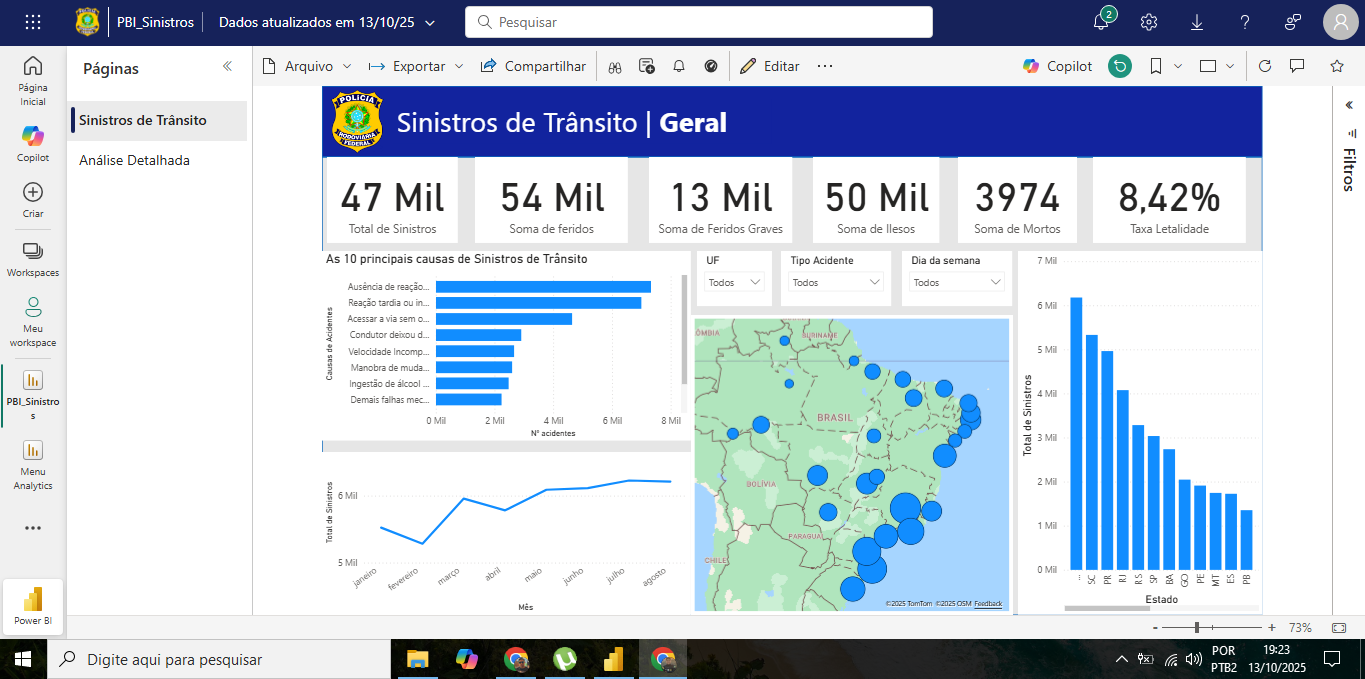

The page's visual inventory and layout, read from the dashboard file:
{"tool":"powerbi","page":{"name":"Sinistros de Trânsito","canvas":[1280,720],"ordinal":0},"visuals":[{"type":"shape","box":[0,96.7,1280,623.3],"z":500},{"type":"shape","box":[0,0,1280,96.7],"z":1000},{"type":"image","box":[0,0,96.7,96.7],"z":2000},{"type":"textbox","box":[96.7,18.3,515,60],"z":3000},{"type":"card","fields":{"Values":["datatran2025.Total de Sinistros"]},"box":[6.7,96.7,178.3,116.7],"z":4000},{"type":"card","fields":{"Values":["Sum(datatran2025.feridos)"]},"box":[208.3,96.7,208.3,116.7],"z":5000},{"type":"card","fields":{"Values":["Sum(datatran2025.feridos_graves)"]},"box":[445,96.7,195,116.7],"z":6000},{"type":"card","fields":{"Values":["Sum(datatran2025.ilesos)"]},"box":[668.3,96.7,171.7,116.7],"z":7000},{"type":"card","fields":{"Values":["Sum(datatran2025.mortos)"]},"box":[865,96.7,161.7,116.7],"z":8000},{"type":"card","fields":{"Values":["datatran2025.Taxa_Letalidade"]},"box":[1050,96.7,208.3,116.7],"z":9000},{"type":"barChart","title":"As 10 principais causas de Sinistros de Trânsito","fields":{"Category":["datatran2025.causa_acidente"],"Y":["CountNonNull(datatran2025.id)"]},"box":[0,225,501.7,258.3],"z":10000},{"type":"columnChart","fields":{"Category":["datatran2025.uf"],"Y":["datatran2025.Total de Sinistros"]},"box":[946.7,225,333.3,495],"z":11000},{"type":"lineChart","fields":{"Category":["datatran2025.data_inversa.Variation.Hierarquia de datas.Mês"],"Y":["datatran2025.Total de Sinistros"]},"box":[0,498.3,501.7,221.7],"z":12000},{"type":"azureMap","fields":{"Size":["datatran2025.Total de Sinistros"],"Category":["datatran2025.Localização Completa"]},"box":[501.7,311.7,438.3,408.3],"z":13000},{"type":"slicer","fields":{"Values":["datatran2025.UF"]},"box":[510,225,101.7,75],"z":14000},{"type":"slicer","fields":{"Values":["datatran2025.tipo_acidente"]},"box":[625,225,150,75],"z":15000},{"type":"slicer","fields":{"Values":["datatran2025.dia_semana"]},"box":[790,225,150,75],"z":16000}]}

Visuals, with their boxes on the page's 1280x720 design canvas (x1, y1, x2, y2). These are canvas units, not pixel positions in the 1365x679 screenshot, which may show the page scaled, cropped or inside an application window:
shape: detection(0, 97, 1280, 720)
shape: detection(0, 0, 1280, 97)
image: detection(0, 0, 97, 97)
textbox: detection(97, 18, 612, 78)
card - datatran2025.Total de Sinistros: detection(7, 97, 185, 213)
card - Sum(datatran2025.feridos): detection(208, 97, 417, 213)
card - Sum(datatran2025.feridos_graves): detection(445, 97, 640, 213)
card - Sum(datatran2025.ilesos): detection(668, 97, 840, 213)
card - Sum(datatran2025.mortos): detection(865, 97, 1027, 213)
card - datatran2025.Taxa_Letalidade: detection(1050, 97, 1258, 213)
"As 10 principais causas de Sinistros de Trânsito" barChart: detection(0, 225, 502, 483)
columnChart - datatran2025.uf x datatran2025.Total de Sinistros: detection(947, 225, 1280, 720)
lineChart - datatran2025.data_inversa.Variation.Hierarquia de datas.Mês x datatran2025.Total de Sinistros: detection(0, 498, 502, 720)
azureMap - datatran2025.Total de Sinistros x datatran2025.Localização Completa: detection(502, 312, 940, 720)
slicer - datatran2025.UF: detection(510, 225, 612, 300)
slicer - datatran2025.tipo_acidente: detection(625, 225, 775, 300)
slicer - datatran2025.dia_semana: detection(790, 225, 940, 300)
